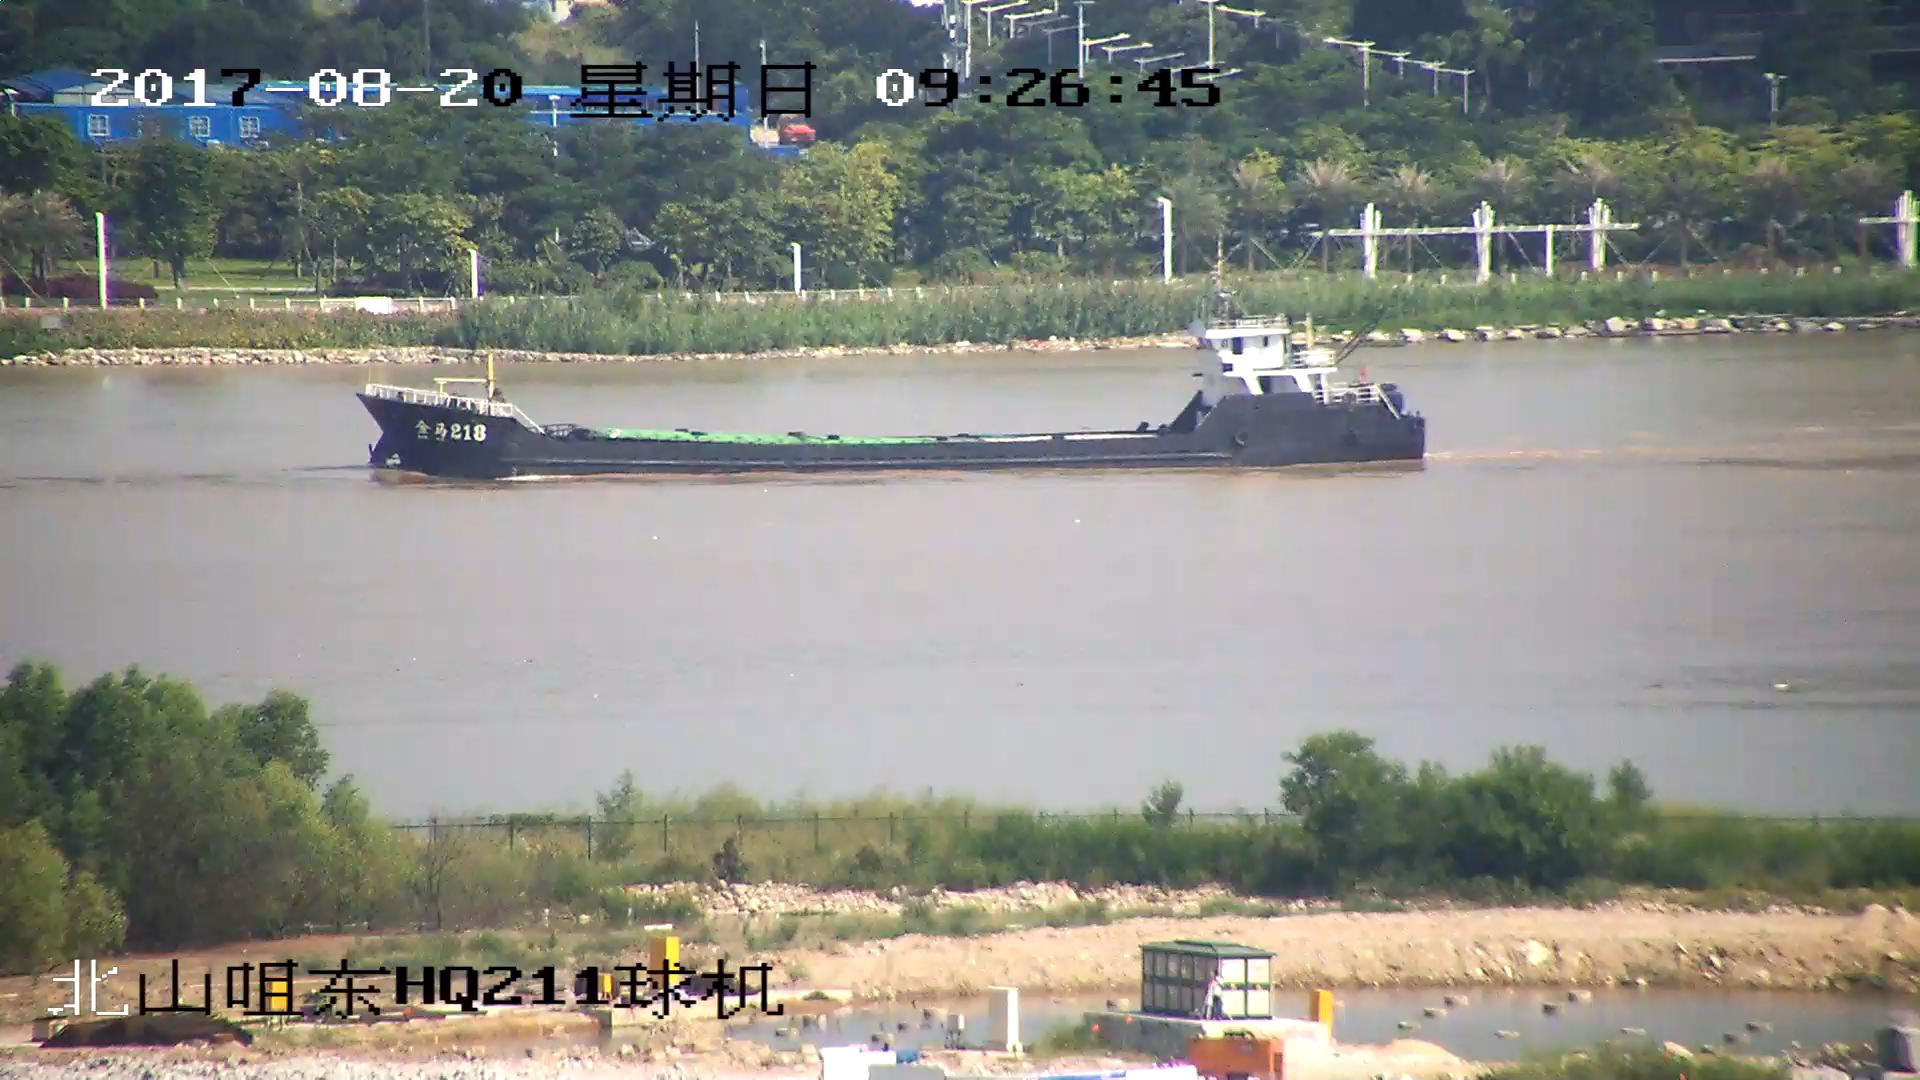general cargo ship: (367, 318, 1425, 472)
